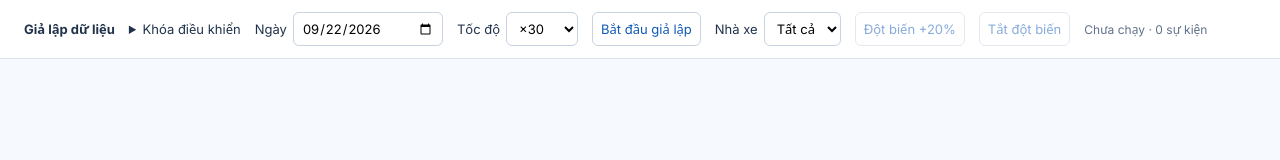
Test: offers only controls supported by the current simulator API
The width and height of the screenshot is (1280, 160).
Step 1. Click the button "Bắt đầu giả lập" → (646, 29), box [592,12,701,46]
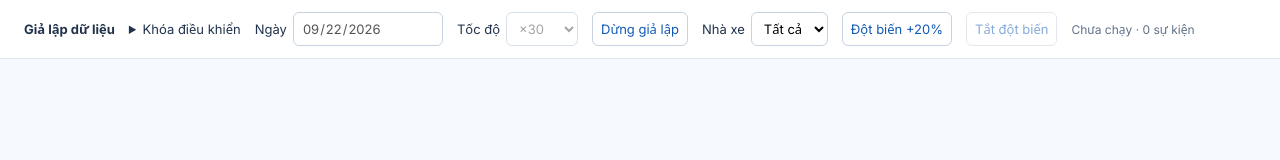
expect the button "Dừng giả lập" is shown: met, box [592,12,688,46]
expect the dropdown labelled "Tốc độ" is disabled: met, box [506,12,578,46]
